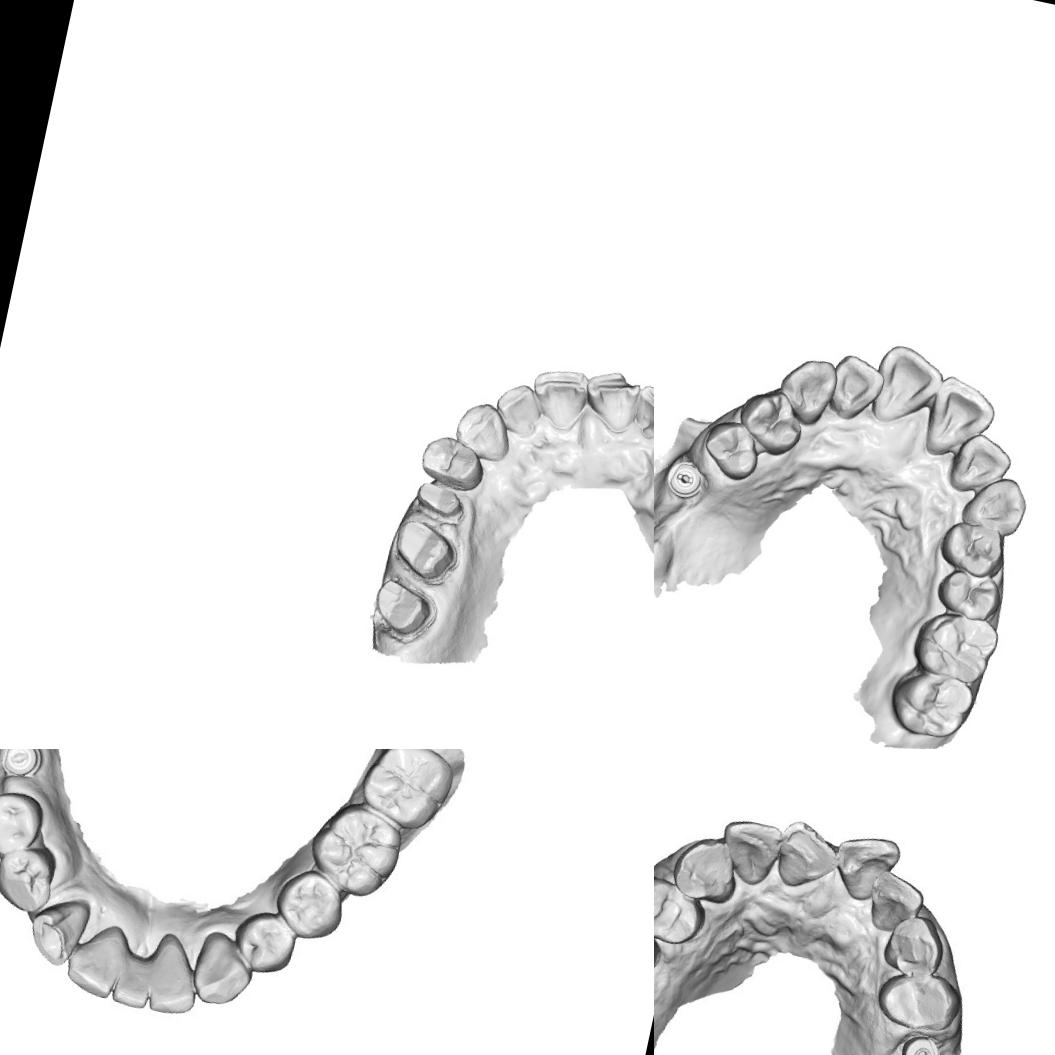canine: (182, 926, 261, 1014), (21, 889, 95, 972), (772, 350, 842, 430), (958, 468, 1034, 540), (878, 908, 952, 980), (675, 838, 747, 906), (450, 397, 518, 465)
crown: (362, 572, 444, 652), (384, 516, 467, 590), (409, 478, 472, 530)
implant: (899, 1029, 944, 1055)
implant_minus: (659, 450, 712, 504), (0, 749, 49, 780)
incisor: (917, 370, 1002, 466), (866, 340, 950, 432), (60, 915, 130, 1003), (771, 816, 841, 900), (143, 933, 207, 1021), (525, 358, 593, 433), (948, 428, 1016, 502), (824, 350, 890, 425), (577, 365, 644, 437), (832, 831, 898, 900), (861, 872, 929, 938), (721, 816, 781, 886), (490, 376, 548, 440), (107, 943, 160, 1012), (628, 381, 654, 443)
molar: (302, 793, 410, 904), (353, 749, 461, 835), (883, 661, 980, 744), (906, 605, 1003, 688)
premolar: (869, 966, 964, 1036), (268, 862, 348, 944), (732, 384, 812, 462), (226, 903, 301, 981), (934, 512, 1010, 583), (414, 430, 490, 495), (930, 561, 1007, 625), (0, 839, 62, 917), (698, 416, 766, 486), (0, 784, 47, 862), (654, 880, 705, 945)
